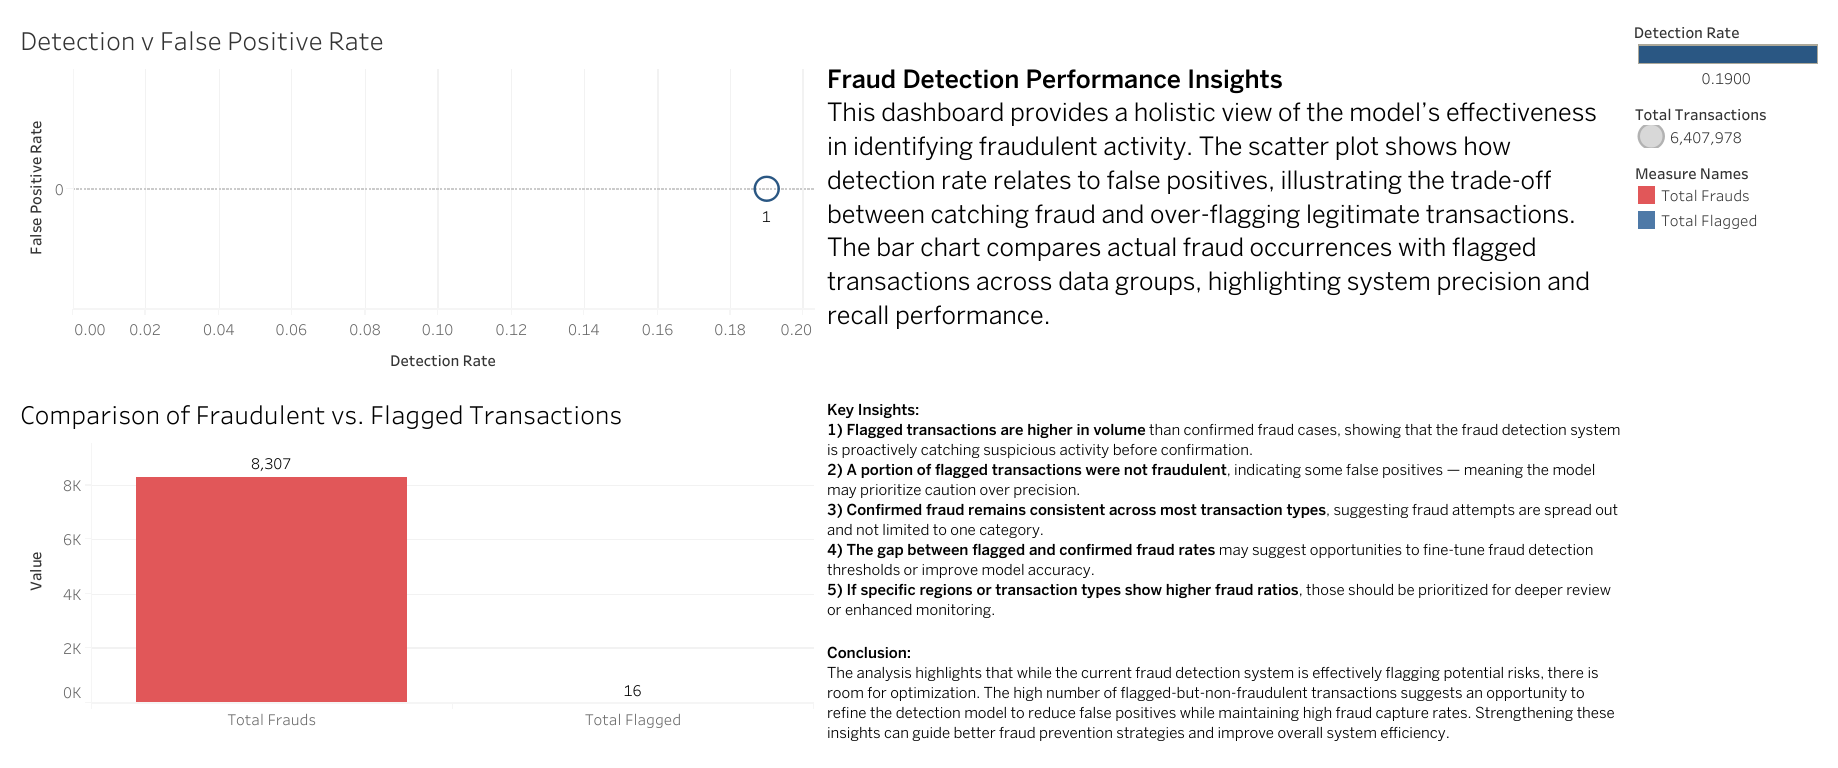

Layout of this report page (visuals, bound fields, positions):
{"tool":"tableau","page":{"name":"Fraud Dectection Perfomrance Insights","canvas":[1000,1000],"units":"permille","ordinal":2},"visuals":[{"type":"worksheet","title":"Detection v False Positive Rate","mark":"Automatic","rows":["false_positive_rate"],"cols":["detection_rate"],"box":[4.8,10,446.9,490]},{"type":"text","box":[451.7,10,446.9,490]},{"type":"legend","title":"Detection v False Positive Rate","param":"[federated.1qnalny1ys2l0b19s107611t4x8o].[sum:detection_rate:qk]","box":[898.6,10,96.6,91.1]},{"type":"legend","title":"Detection v False Positive Rate","param":"[federated.1qnalny1ys2l0b19s107611t4x8o].[sum:total_transactions:qk]","box":[898.6,101.1,96.6,63.7]},{"type":"legend","title":"Fraud v Flagged Transactions","param":"[federated.1qnalny1ys2l0b19s107611t4x8o].[:Measure Names]","box":[898.6,164.8,96.6,89.9]},{"type":"worksheet","title":"Fraud v Flagged Transactions","mark":"Automatic","box":[4.8,500,446.9,490]},{"type":"text","box":[451.7,500,446.9,490]}]}

Visuals, with their boxes on the dashboard's canvas, which has no fixed pixel size, in thousandths of its width and height (x1, y1, x2, y2). These are canvas units, not pixel positions in the 1838x768 screenshot, which may show the page scaled, cropped or inside an application window:
"Detection v False Positive Rate" worksheet: bbox(5, 10, 452, 500)
text: bbox(452, 10, 899, 500)
"Detection v False Positive Rate" legend: bbox(899, 10, 995, 101)
"Detection v False Positive Rate" legend: bbox(899, 101, 995, 165)
"Fraud v Flagged Transactions" legend: bbox(899, 165, 995, 255)
"Fraud v Flagged Transactions" worksheet: bbox(5, 500, 452, 990)
text: bbox(452, 500, 899, 990)
